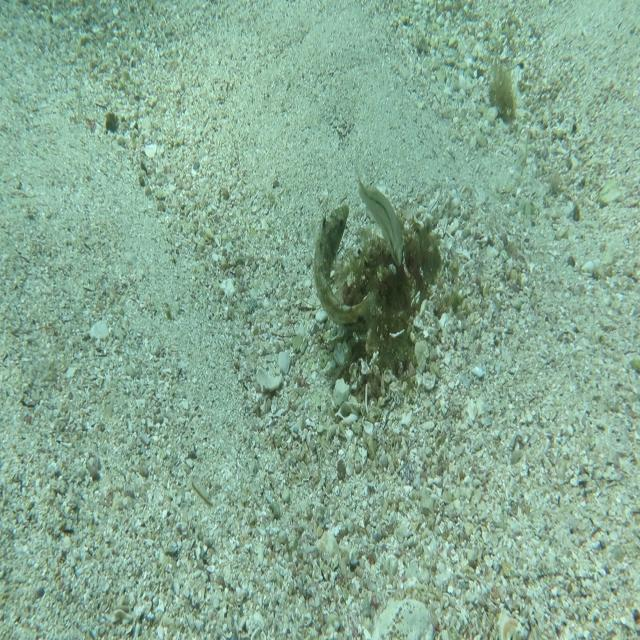BEND: (313, 204, 388, 331)
female: (355, 164, 405, 270)
nest: (326, 207, 442, 398)
